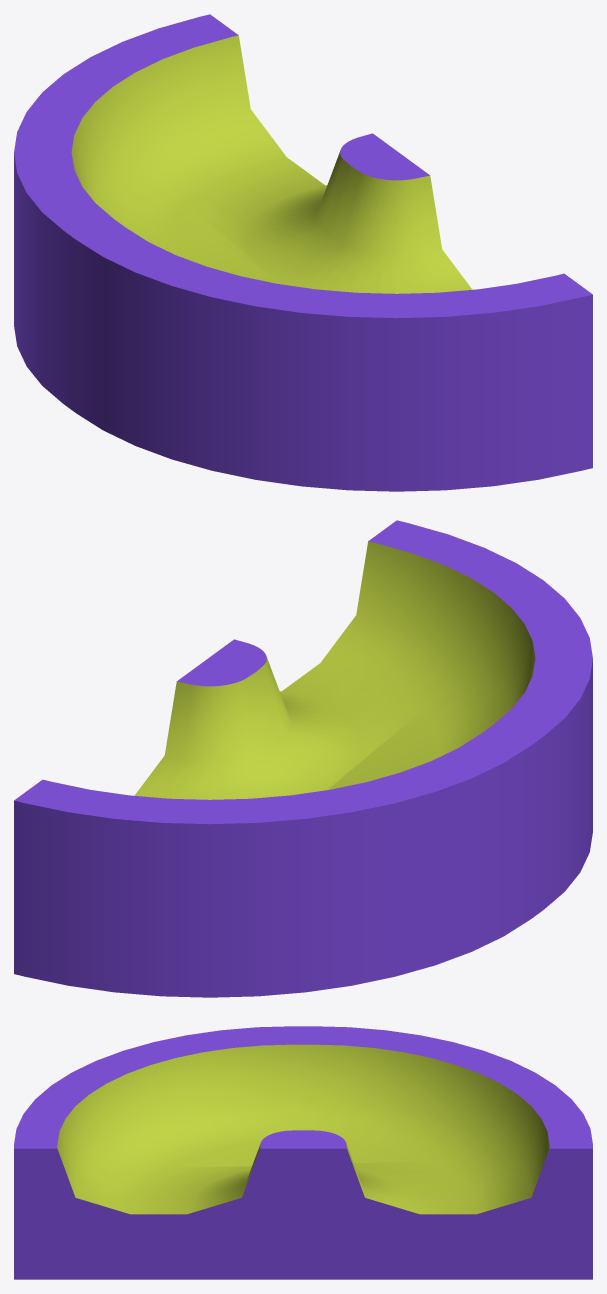
The model's file is bend-col.dae.
3 views of the same model, one above another, from view 1: azimuth 30°, elevation 25°; view 2: azimuth 150°, elevation 25°; view 3: azimuth 270°, elevation 25° (orthographic). The views are drawn at different scales.
Parts seen in each view (by area): view 1: bend-col; view 2: bend-col; view 3: bend-col.
Boxes of the visible parts, box(x1,y1,x2,y2) form: bend-col: box(14, 14, 592, 491); bend-col: box(14, 520, 592, 997); bend-col: box(14, 1026, 592, 1279).
Bounding box in the file's own units: 1 × 2 × 0.5.
